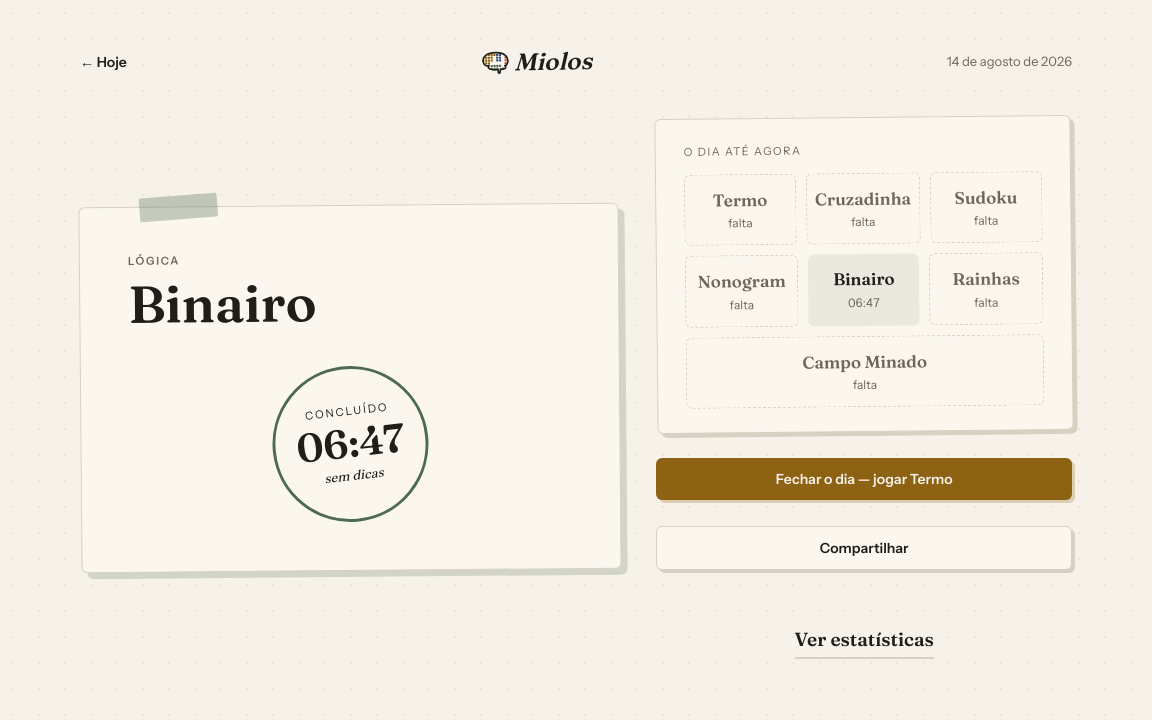
Test: what the player is told, per rejection (T-WEB-S197) › a NON-Abort rejection falls through to the clipboard
Click the button "Compartilhar" at (864, 548), box [656,526,1072,570]
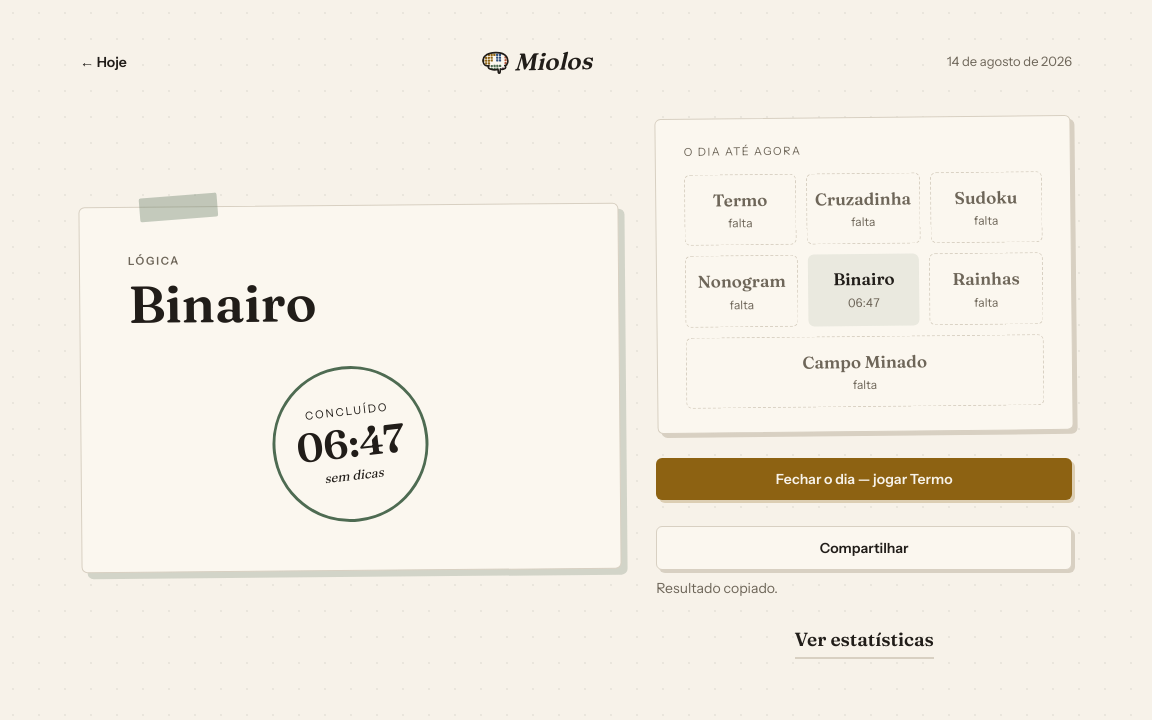
Result: the message "Resultado copiado." is shown at [656,579,778,597]
